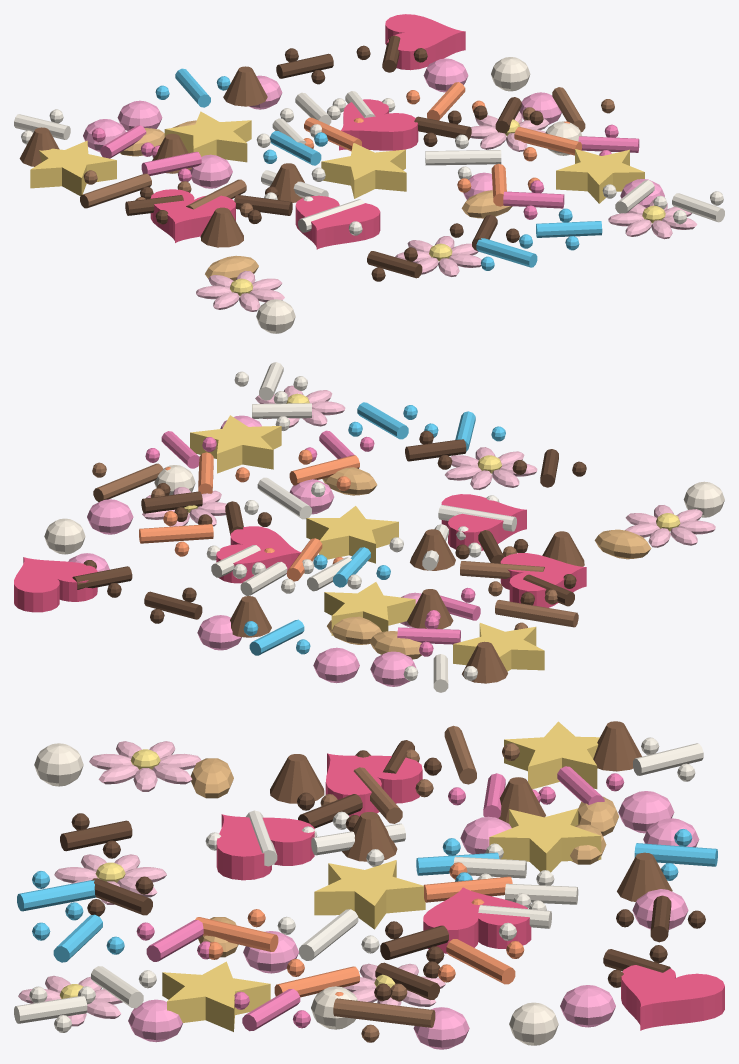
File: toppings_square_2_tier.glb
The picture shows the model from 3 angles, top to bottom: view 1: azimuth 30°, elevation 25°; view 2: azimuth 150°, elevation 25°; view 3: azimuth 270°, elevation 25°; orthographic projection. The views are drawn at different scales.
Parts seen in each view (by area): view 1: ToppingStar_square_2_01, ToppingHeart_square_2_00, ToppingHeart_square_2_01, ToppingStar_square_2_03, ToppingHeart_square_2_03, ToppingStar_square_2_02, ToppingStar_square_2_00, ToppingHeart_square_2_02, ToppingChocolateChip_square_2_01, ToppingChocolateChip_square_2_03, ToppingSprinkle_square_2_08_Body, ToppingSprinkle_square_2_04_Body (+41 smaller); view 2: ToppingHeart_square_2_00, ToppingStar_square_2_02, ToppingStar_square_2_01, ToppingStar_square_2_00, ToppingHeart_square_2_01, ToppingStar_square_2_03, ToppingHeart_square_2_02, ToppingHeart_square_2_03, ToppingSprinkle_square_2_04_Body, ToppingDot_square_2_05, ToppingDot_square_2_01, ToppingNut_square_2_01 (+40 smaller); view 3: ToppingHeart_square_2_00, ToppingStar_square_2_01, ToppingHeart_square_2_01, ToppingStar_square_2_02, ToppingStar_square_2_00, ToppingHeart_square_2_03, ToppingStar_square_2_03, ToppingHeart_square_2_02, ToppingSprinkle_square_2_09_Body, ToppingDot_square_2_02, ToppingChocolateChip_square_2_01, ToppingChocolateChip_square_2_00 (+48 smaller).
Part boxes in pixels (<box>): ToppingStar_square_2_01: <box>321,143,406,198</box>; ToppingHeart_square_2_00: <box>385,14,465,70</box>; ToppingHeart_square_2_01: <box>295,195,380,249</box>; ToppingStar_square_2_03: <box>30,140,116,196</box>; ToppingHeart_square_2_03: <box>339,99,418,150</box>; ToppingStar_square_2_02: <box>556,149,644,203</box>; ToppingStar_square_2_00: <box>164,111,251,162</box>; ToppingHeart_square_2_02: <box>150,189,235,242</box>; ToppingChocolateChip_square_2_01: <box>200,207,243,247</box>; ToppingChocolateChip_square_2_03: <box>223,66,267,106</box>; ToppingSprinkle_square_2_08_Body: <box>425,150,501,165</box>; ToppingSprinkle_square_2_04_Body: <box>80,173,151,208</box>; ToppingHeart_square_2_00: <box>14,557,97,612</box>; ToppingStar_square_2_02: <box>190,415,281,473</box>; ToppingStar_square_2_01: <box>306,506,398,563</box>; ToppingStar_square_2_00: <box>324,582,415,635</box>; ToppingHeart_square_2_01: <box>441,494,526,550</box>; ToppingStar_square_2_03: <box>453,623,544,671</box>; ToppingHeart_square_2_02: <box>500,553,586,607</box>; ToppingHeart_square_2_03: <box>216,526,300,583</box>; ToppingSprinkle_square_2_04_Body: <box>495,600,578,627</box>; ToppingDot_square_2_05: <box>87,499,133,534</box>; ToppingDot_square_2_01: <box>313,647,359,683</box>; ToppingNut_square_2_01: <box>594,529,651,559</box>; ToppingHeart_square_2_00: <box>621,965,724,1030</box>; ToppingStar_square_2_01: <box>314,860,425,929</box>; ToppingHeart_square_2_01: <box>216,814,314,880</box>; ToppingStar_square_2_02: <box>162,961,270,1031</box>; ToppingStar_square_2_00: <box>489,808,601,872</box>; ToppingHeart_square_2_03: <box>423,887,531,953</box>; ToppingStar_square_2_03: <box>504,721,599,789</box>; ToppingHeart_square_2_02: <box>325,753,422,816</box>; ToppingSprinkle_square_2_09_Body: <box>333,998,435,1027</box>; ToppingDot_square_2_02: <box>560,985,615,1027</box>; ToppingChocolateChip_square_2_01: <box>270,754,324,803</box>; ToppingChocolateChip_square_2_00: <box>593,721,641,771</box>.
Size of the model in its own units: 1.13 by 0.0993 by 1.09.
